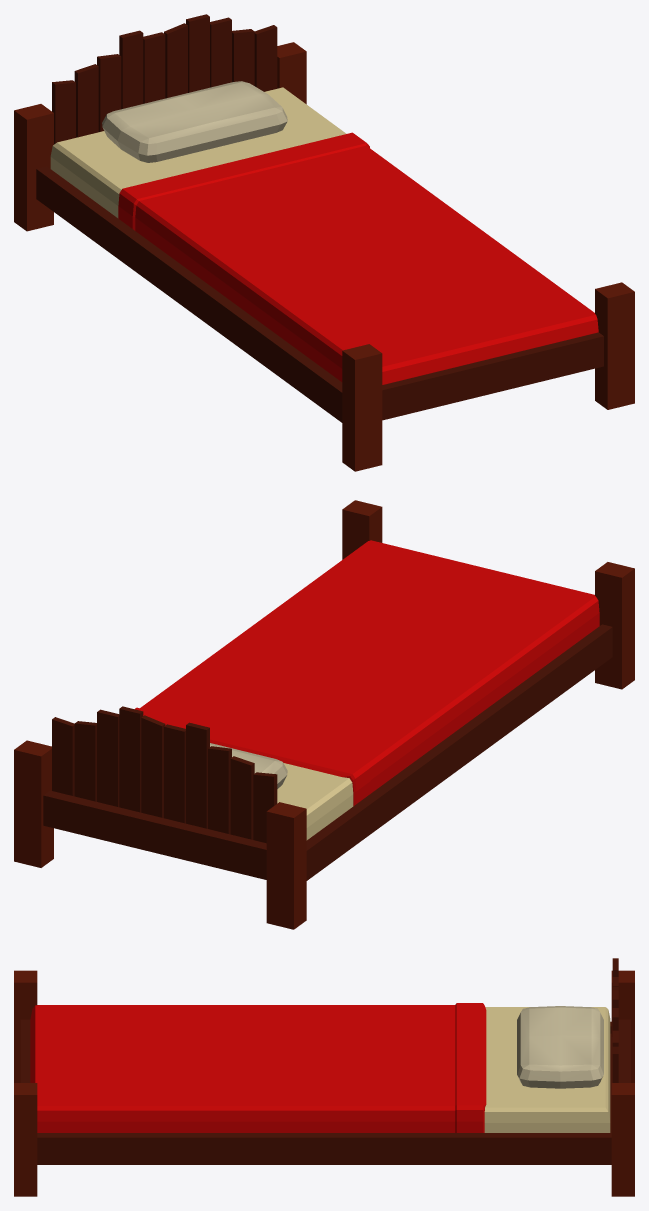
Rendered from Cama - Madeira.fbx.
3 views of the same model, one above another, from view 1: azimuth 30°, elevation 25°; view 2: azimuth 150°, elevation 25°; view 3: azimuth 270°, elevation 25° (orthographic). The views are drawn at different scales.
Parts seen in each view (by area): view 1: Cama; view 2: Cama; view 3: Cama.
Part boxes in pixels (box(x1,y1,x2,y2)): Cama: box(14, 14, 634, 471); Cama: box(14, 500, 634, 929); Cama: box(14, 958, 634, 1196).
Size of the model in its own units: 116 by 67.43 by 246.
